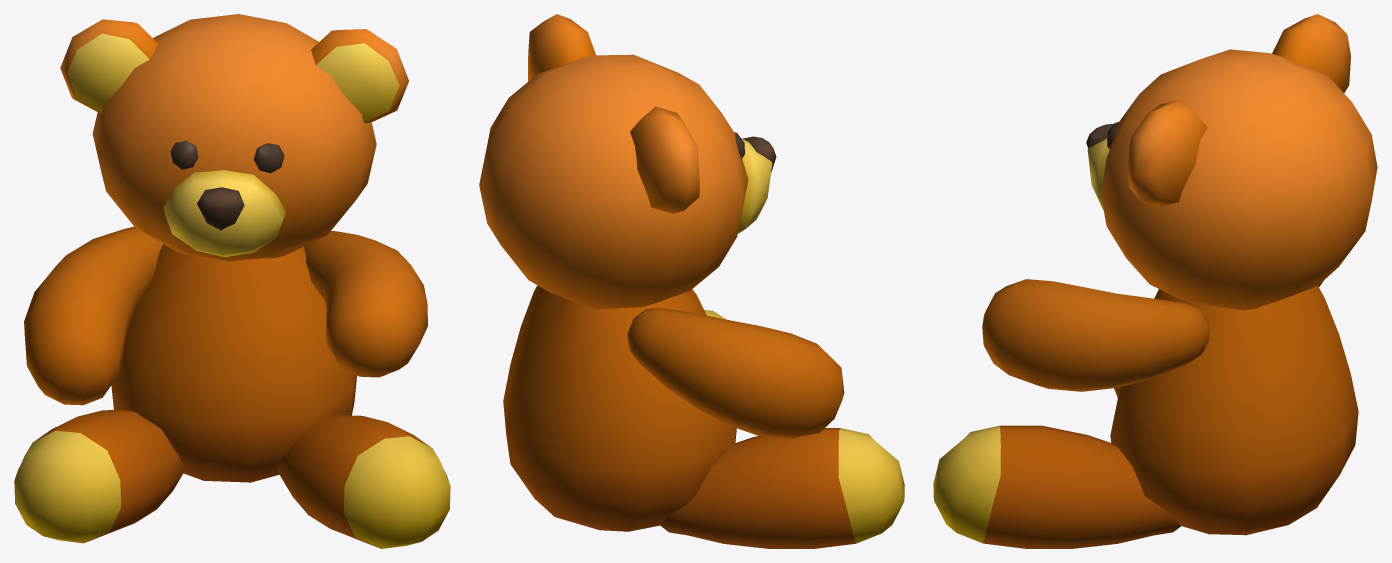
Rendered from Bear.fbx.
3 renders of one model, left to right at view 1: azimuth 30°, elevation 25°; view 2: azimuth 150°, elevation 25°; view 3: azimuth 270°, elevation 25°, orthographic. The views are drawn at different scales.
Visible parts, largest first — view 1: Bear; view 2: Bear; view 3: Bear.
Boxes of the visible parts, bbox=[...] form: Bear: bbox=[14, 14, 450, 548]; Bear: bbox=[479, 14, 904, 548]; Bear: bbox=[933, 14, 1377, 548].
Bounding box in the file's own units: 2758 × 3160 × 2765.
1 material, 1 textured.
